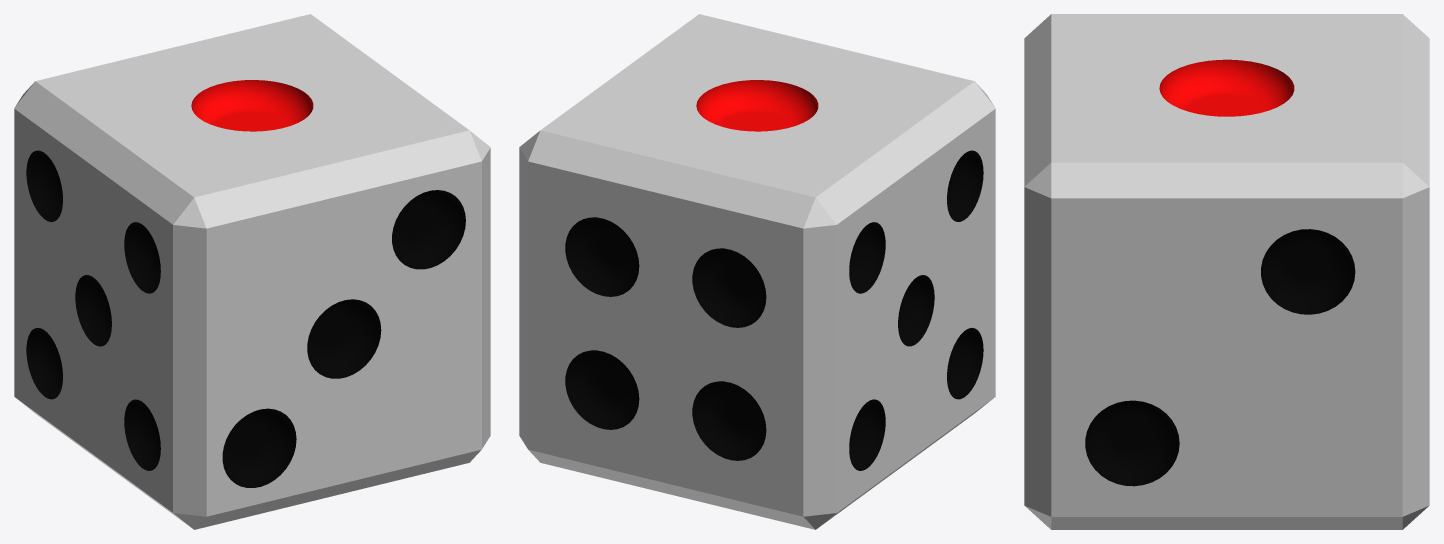
The model's file is saikoro.glb.
3 renders of one model, left to right at view 1: azimuth 30°, elevation 25°; view 2: azimuth 150°, elevation 25°; view 3: azimuth 270°, elevation 25°, orthographic. The views are drawn at different scales.
Visible parts, largest first — view 1: Part1; view 2: Part1; view 3: Part1.
Boxes of the visible parts, x1,y1,x2,y2 form: Part1: (14,14,490,529); Part1: (519,14,995,529); Part1: (1024,14,1429,529).
Size of the model in its own units: 0.03 by 0.03 by 0.03.
